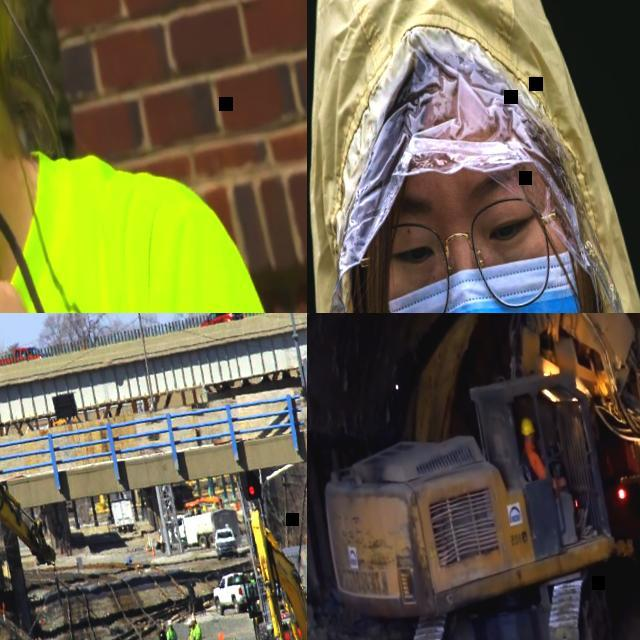helmet: (518, 417, 534, 436), (185, 618, 193, 626), (190, 613, 197, 621), (166, 619, 173, 625), (248, 570, 254, 576), (160, 622, 166, 627)
vest: (524, 440, 546, 480), (164, 626, 179, 640), (191, 623, 202, 640), (185, 626, 196, 640), (250, 578, 256, 588)
